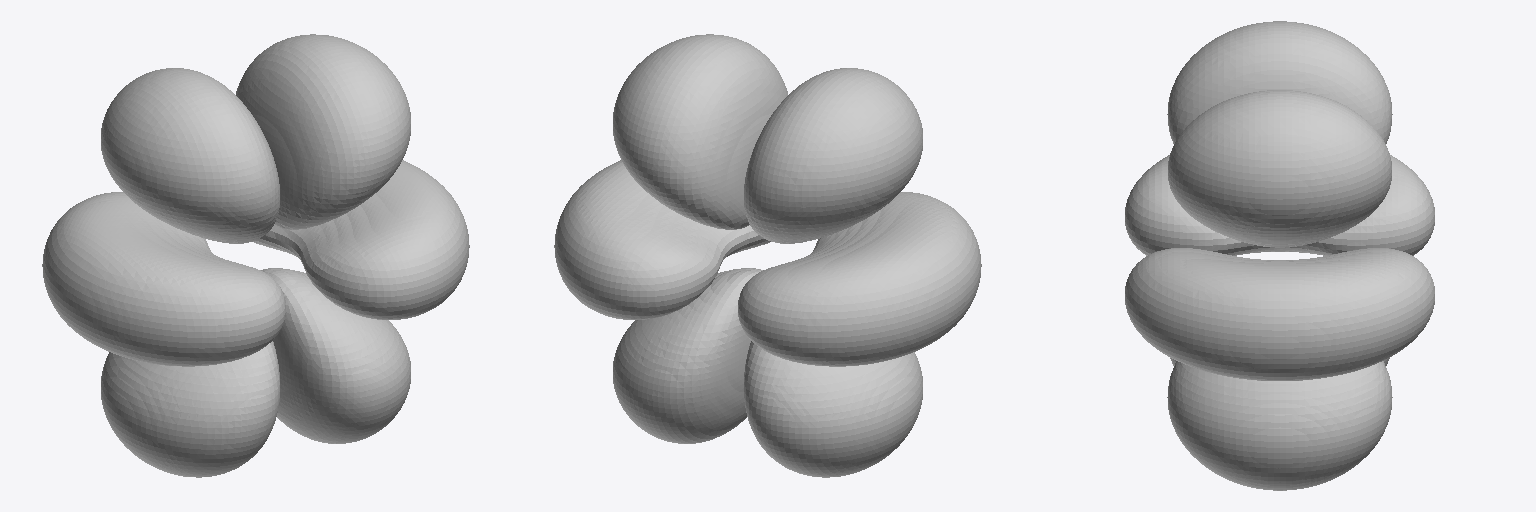
Rendered from orb_n=4_ l=3 _m=1.obj.
3 renders of one model, left to right at view 1: azimuth 30°, elevation 25°; view 2: azimuth 150°, elevation 25°; view 3: azimuth 270°, elevation 25°, orthographic.
Parts seen in each view (by area): view 1: orb_n=4__l=3__m=1; view 2: orb_n=4__l=3__m=1; view 3: orb_n=4__l=3__m=1.
Boxes of the visible parts, x1=… form: orb_n=4__l=3__m=1: x1=42, y1=34, x2=469, y2=477; orb_n=4__l=3__m=1: x1=554, y1=34, x2=981, y2=477; orb_n=4__l=3__m=1: x1=1125, y1=21, x2=1434, y2=490.
Size of the model in its own units: 65.81 by 64.1 by 46.61.